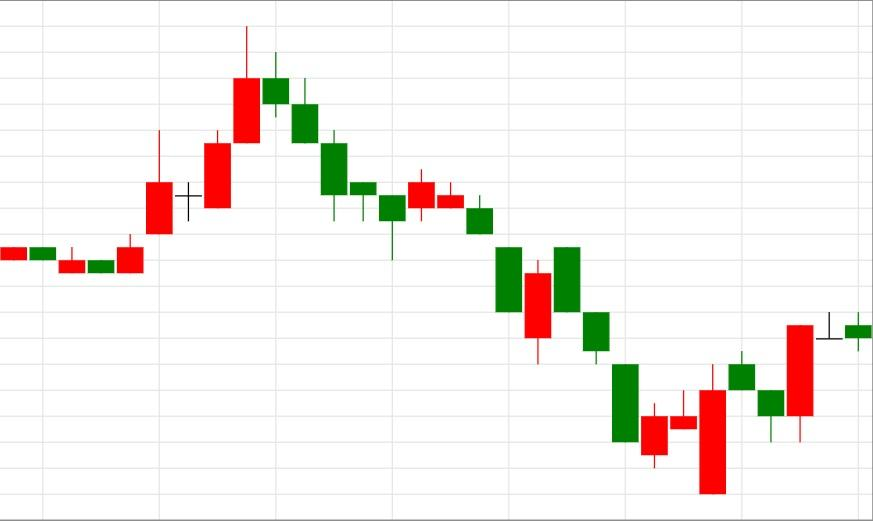three_black_crows_fall: (57, 25, 349, 274)
